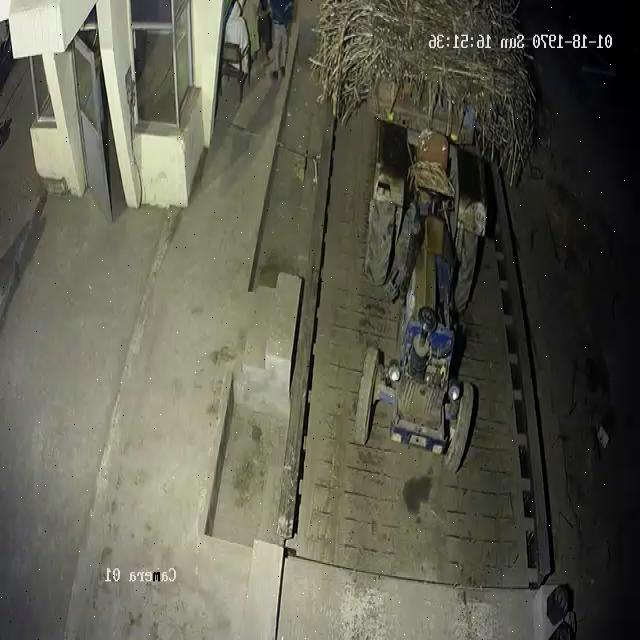Tratores - v5 YOLO V8L 2024-11-13: (350, 127, 505, 473)
